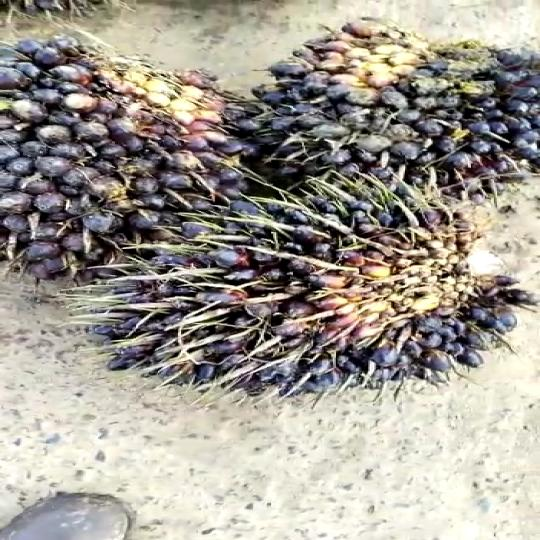mentah: (94, 179, 528, 409), (0, 25, 253, 294), (209, 16, 540, 198)
